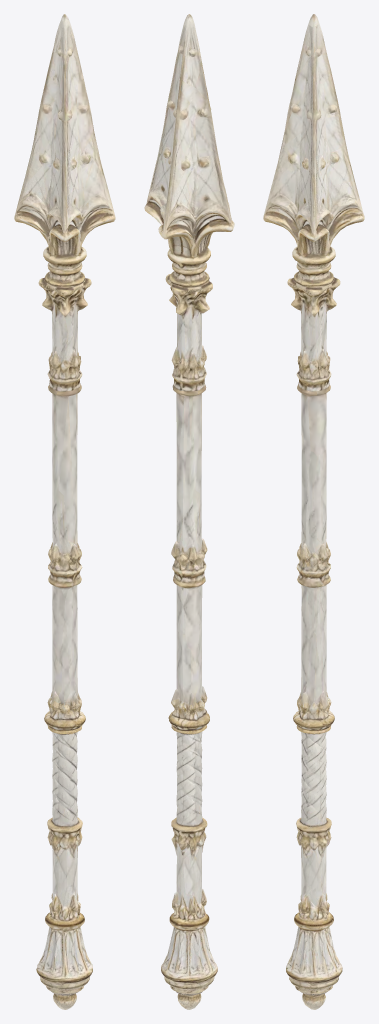
The model's file is lance-white.glb.
The picture shows the model from 3 angles, left to right: view 1: azimuth 90°, elevation 25°; view 2: azimuth 150°, elevation 25°; view 3: azimuth 270°, elevation 25°; orthographic projection.
Parts seen in each view (by area): view 1: Lance; view 2: Lance; view 3: Lance.
Boxes of the visible parts, bbox=[...] form: Lance: bbox=[14, 14, 115, 1009]; Lance: bbox=[144, 14, 234, 1009]; Lance: bbox=[263, 14, 364, 1009].
Bounding box in the file's own units: 0.2479 × 2.7 × 0.2494.
1 material, 1 textured.
